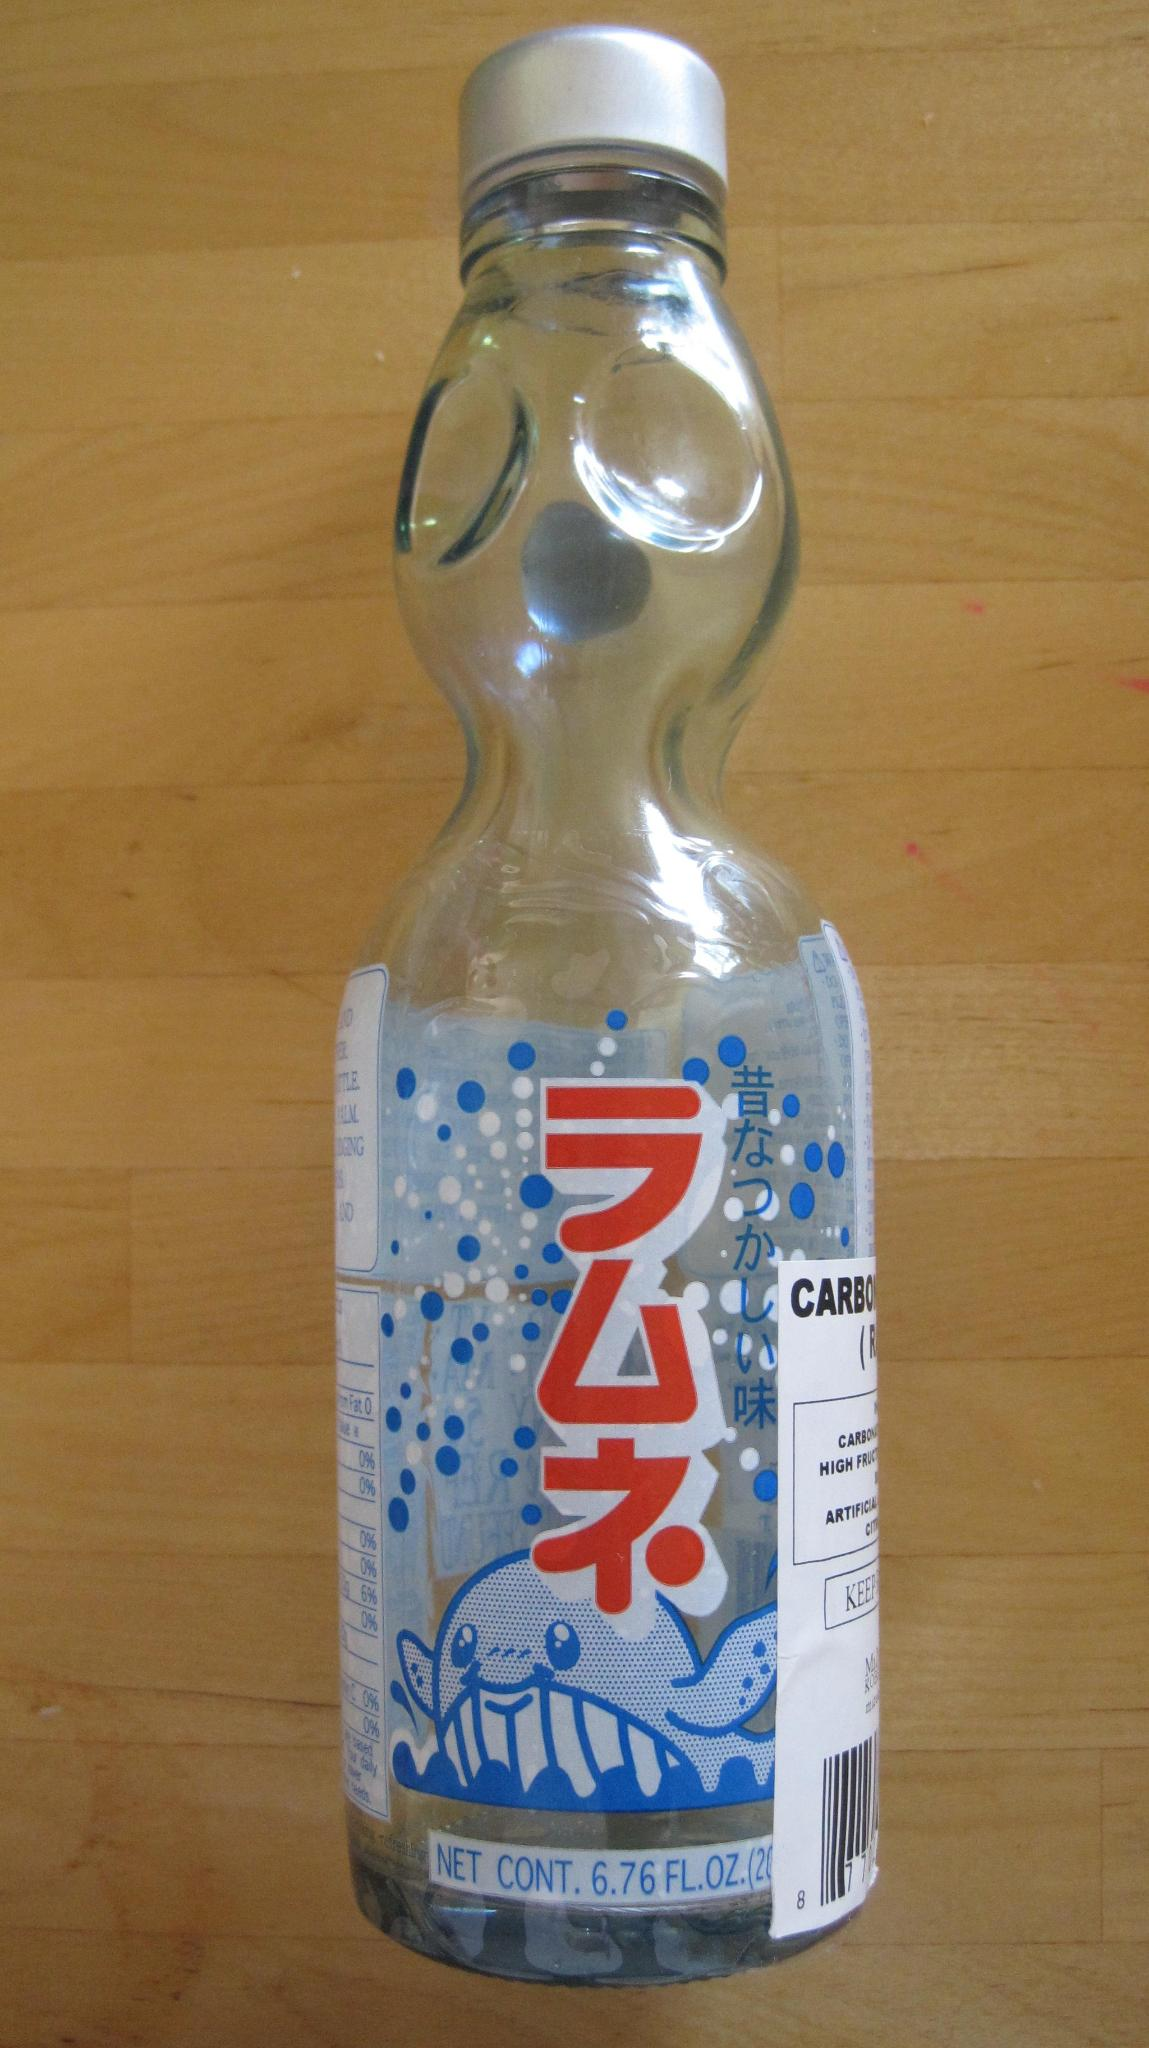bottle: (260, 0, 997, 2028)
